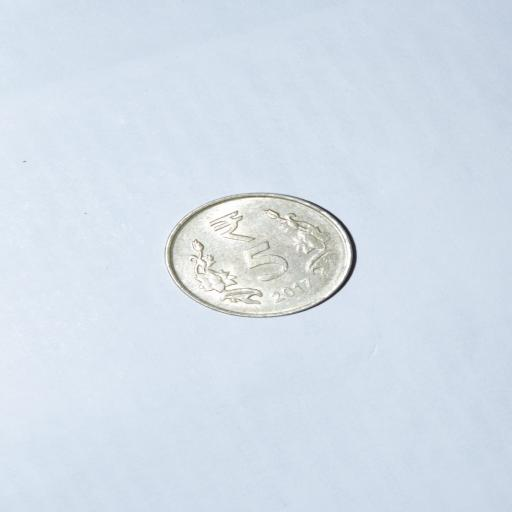rupee5: (161, 190, 360, 320)
